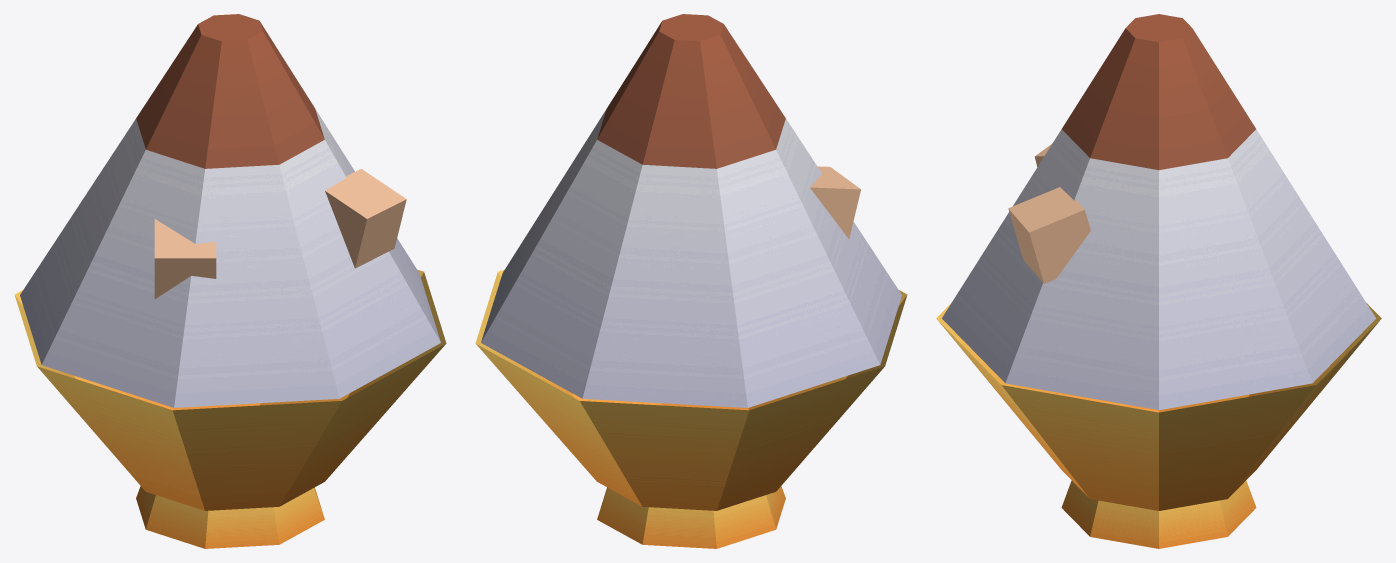
File: food-patbingsu.glb
The picture shows the model from 3 angles, left to right: view 1: azimuth 30°, elevation 25°; view 2: azimuth 150°, elevation 25°; view 3: azimuth 270°, elevation 25°; orthographic projection.
Visible parts, largest first — view 1: foodPatbingsu; view 2: foodPatbingsu; view 3: foodPatbingsu.
Boxes of the visible parts, left/top/right/bottom form: foodPatbingsu: left=14, top=14, right=446, bottom=548; foodPatbingsu: left=475, top=14, right=907, bottom=548; foodPatbingsu: left=936, top=14, right=1381, bottom=548.
Bounding box in the file's own units: 0.16 × 0.19 × 0.16.
Materials: 1 (1 with a texture image).
